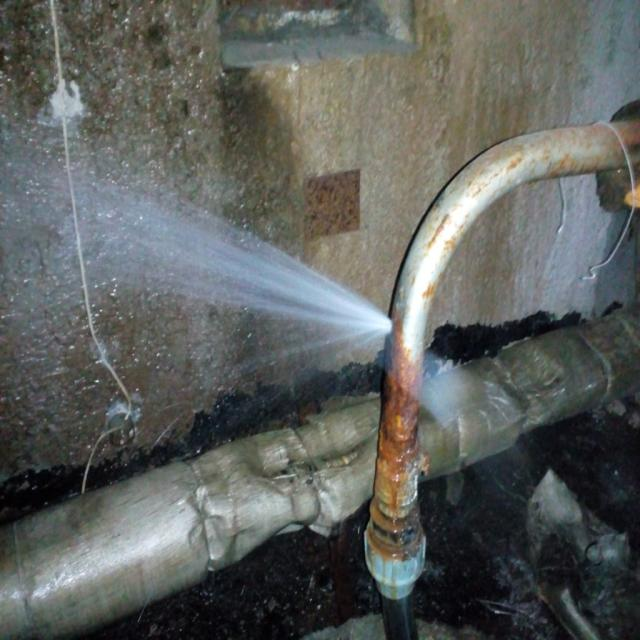leak: (0, 104, 393, 508)
